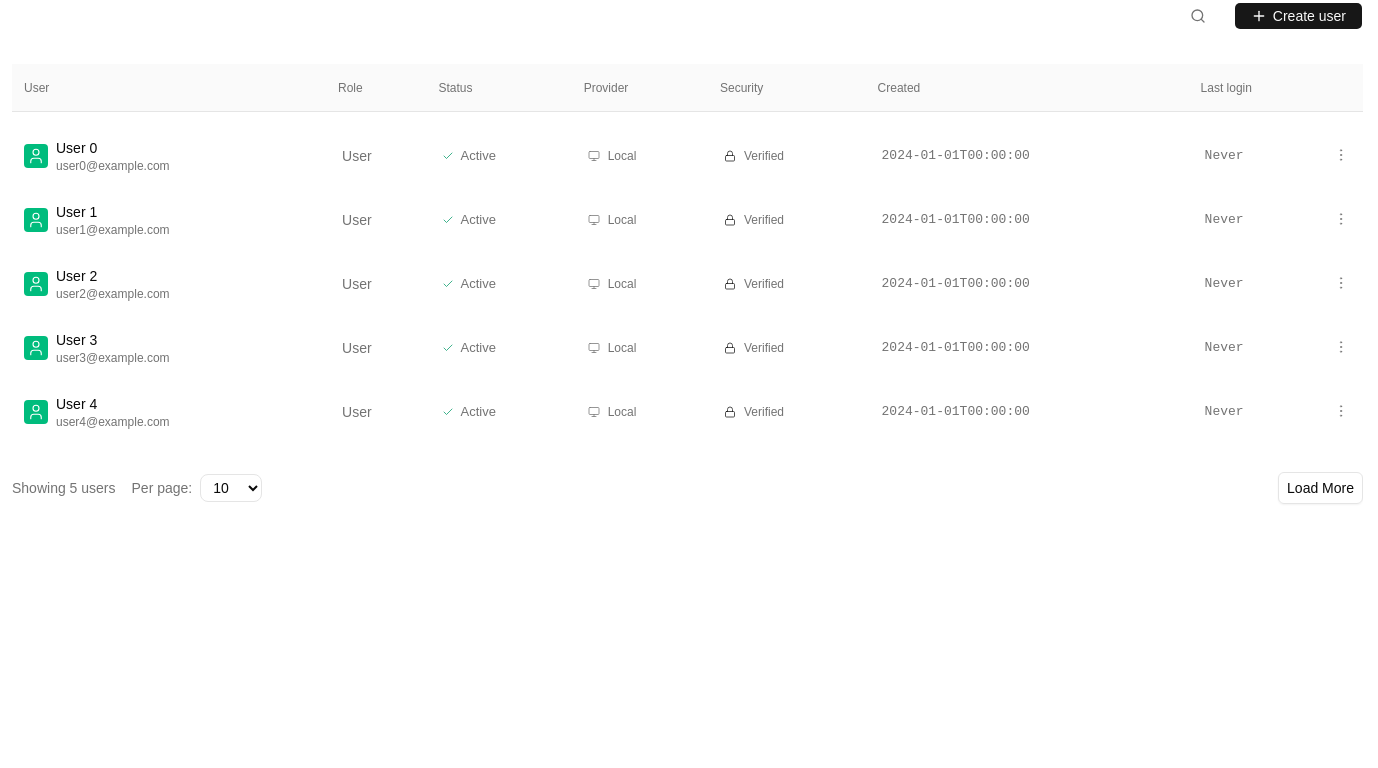
Test case: Users › accumulates users when loading more
Check: the text "user0@example.com" is shown, box left=56, top=158, right=170, bottom=174
Check: the text "user4@example.com" is shown, box left=56, top=414, right=170, bottom=430
What coordinates should you click on to do the following:
click the button with aria-label "load more users"
I would click on:
 (1321, 488)
Its box is left=1278, top=472, right=1363, bottom=504.
(page scrolled)
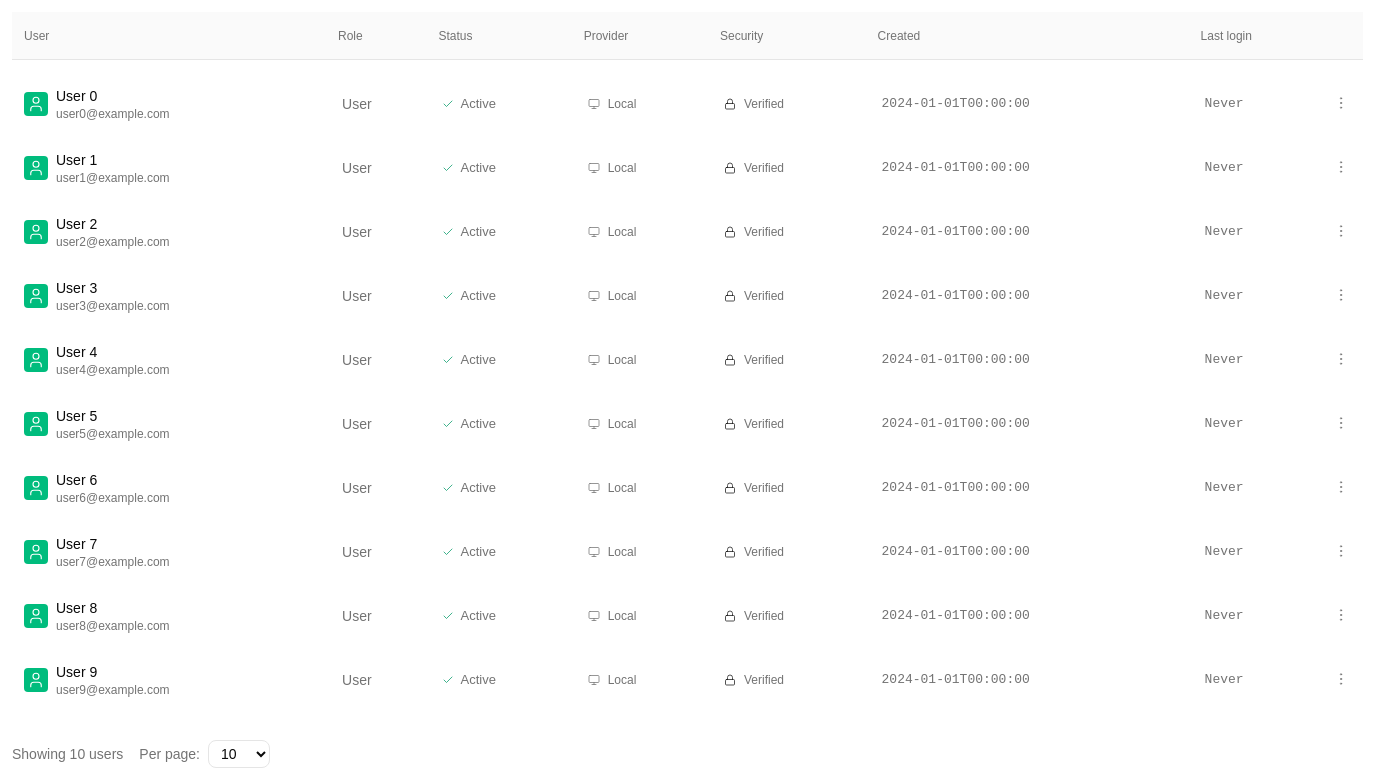
Check: the text "user5@example.com" is shown, box left=56, top=426, right=170, bottom=442
Check: the text "user9@example.com" is shown, box left=56, top=682, right=170, bottom=698
Check: the text "Showing 10 users" is shown, box left=12, top=744, right=123, bottom=764
